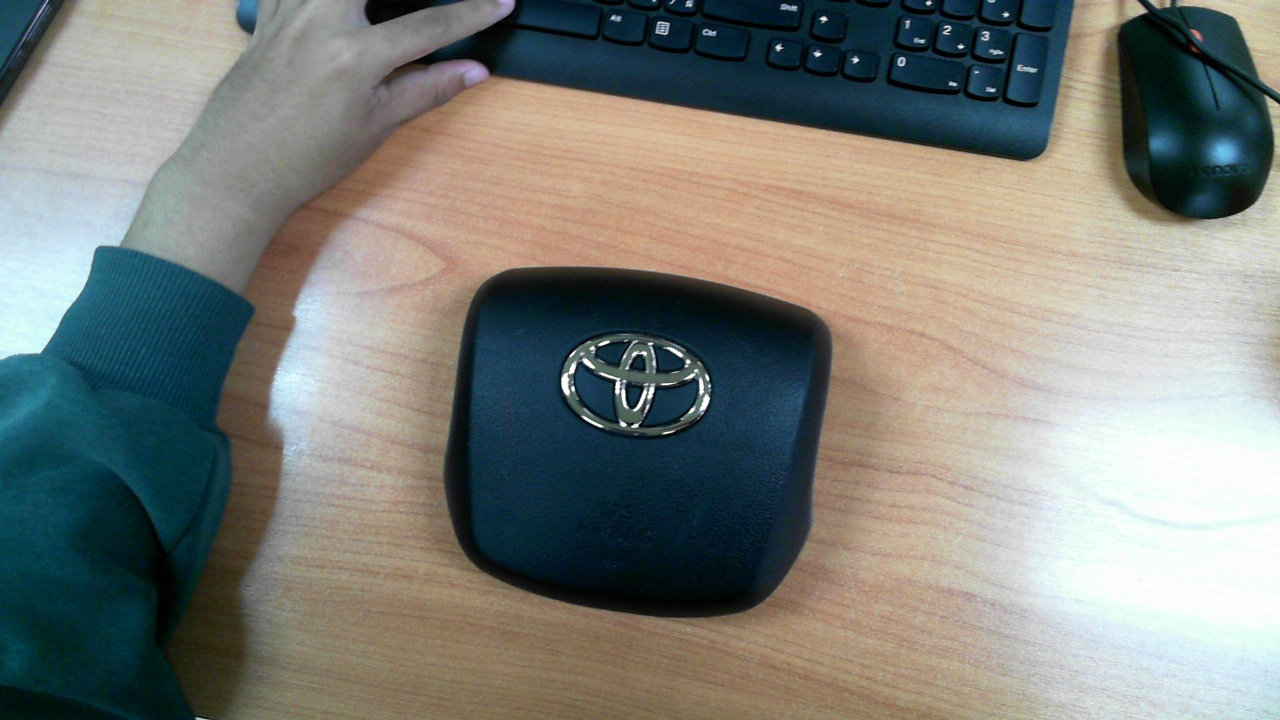Airbag: (443, 266, 833, 619)
Toyota: (560, 333, 712, 437)
